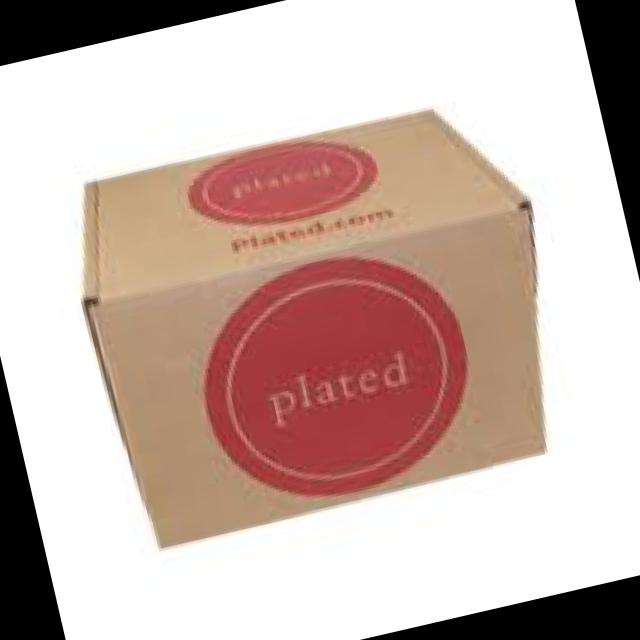box: (92, 76, 410, 540)
